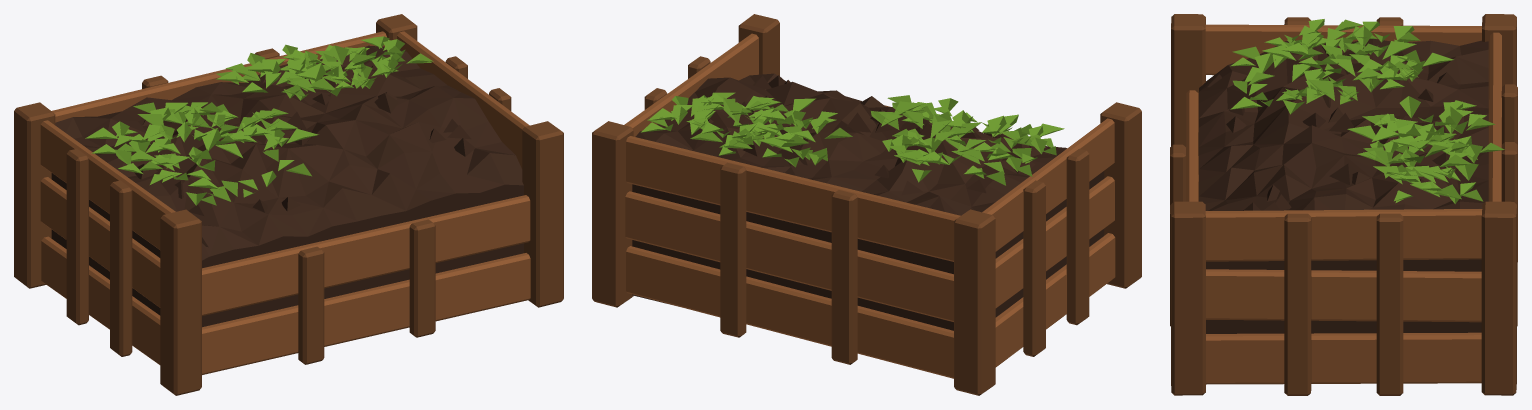
3 renders of one model, left to right at view 1: azimuth 30°, elevation 25°; view 2: azimuth 150°, elevation 25°; view 3: azimuth 270°, elevation 25°, orthographic. The views are drawn at different scales.
Visible parts, largest first — view 1: compost, planks, posts, clippings; view 2: planks, posts, compost, clippings; view 3: planks, compost, posts, clippings.
Part boxes in pixels (bbox=[...]): compost: bbox=[51, 45, 523, 327]; planks: bbox=[40, 31, 530, 374]; posts: bbox=[14, 14, 563, 395]; clippings: bbox=[85, 36, 433, 205]; planks: bbox=[624, 33, 1115, 378]; posts: bbox=[592, 14, 1141, 395]; compost: bbox=[632, 73, 1104, 330]; clippings: bbox=[641, 92, 1064, 185]; planks: bbox=[1186, 24, 1501, 384]; compost: bbox=[1199, 39, 1488, 333]; posts: bbox=[1170, 14, 1517, 395]; clippings: bbox=[1230, 19, 1504, 203].
Bounding box in the file's own units: 1.81 × 0.8195 × 1.31.
